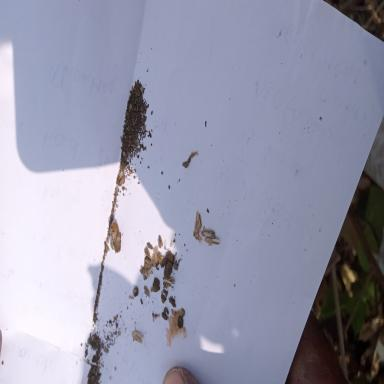pbw: (193, 212, 202, 244), (132, 325, 143, 343), (202, 237, 219, 246), (201, 230, 216, 238), (162, 277, 174, 284)
